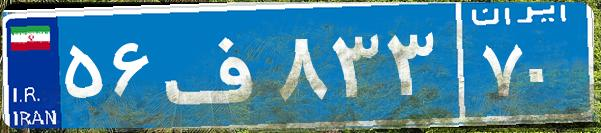0: (525, 38, 570, 115)
3: (385, 28, 445, 110), (330, 28, 385, 110)
5: (57, 26, 110, 107)
6: (110, 28, 158, 105)
7: (475, 38, 525, 113)
8: (273, 28, 330, 110)
ف: (158, 15, 273, 115)
